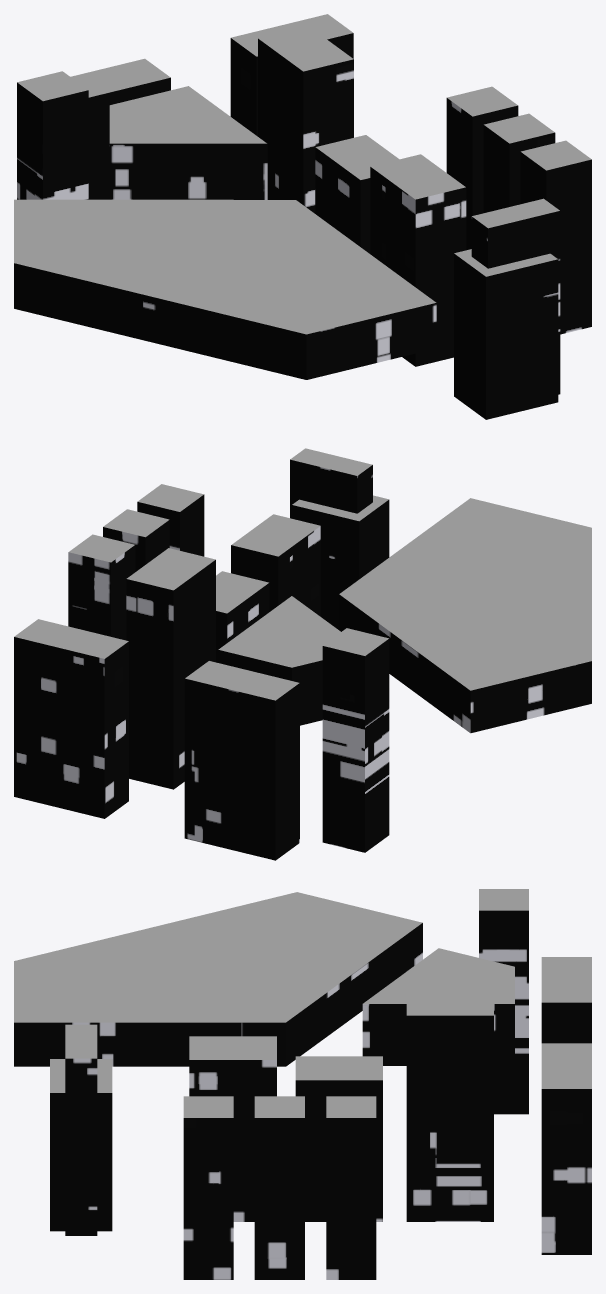
Rendered from Downtown06.fbx.
3 views of the same model, one above another, from view 1: azimuth 30°, elevation 25°; view 2: azimuth 150°, elevation 25°; view 3: azimuth 270°, elevation 25° (orthographic). The views are drawn at different scales.
Parts seen in each view (by area): view 1: Downtown06; view 2: Downtown06; view 3: Downtown06.
Boxes of the visible parts, box(x1,y1,x2,y2) form: Downtown06: box(14, 14, 591, 419); Downtown06: box(14, 448, 591, 860); Downtown06: box(14, 889, 591, 1279).
Size of the model in its own units: 1.55 by 0.6091 by 1.55.
Materials: 2 (1 with a texture image).
